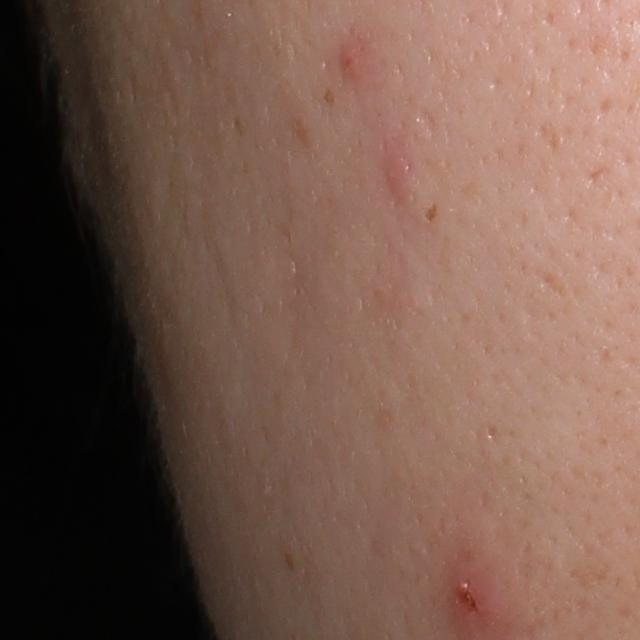atrophic_scar: (532, 267, 569, 299), (421, 108, 439, 137)
papule: (449, 569, 490, 632), (334, 48, 362, 79), (382, 161, 405, 194)
